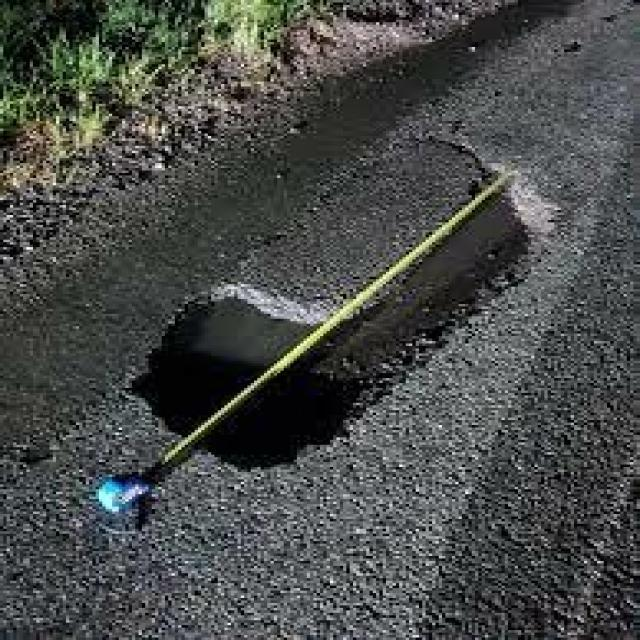Buraco: (113, 132, 569, 480)
